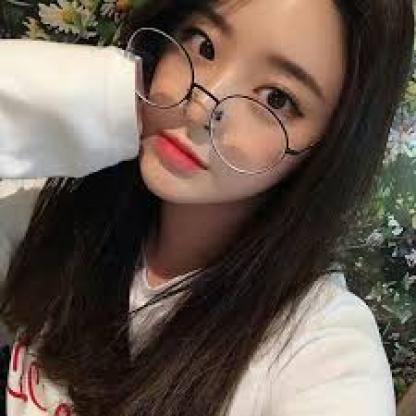person: (120, 0, 379, 204)
